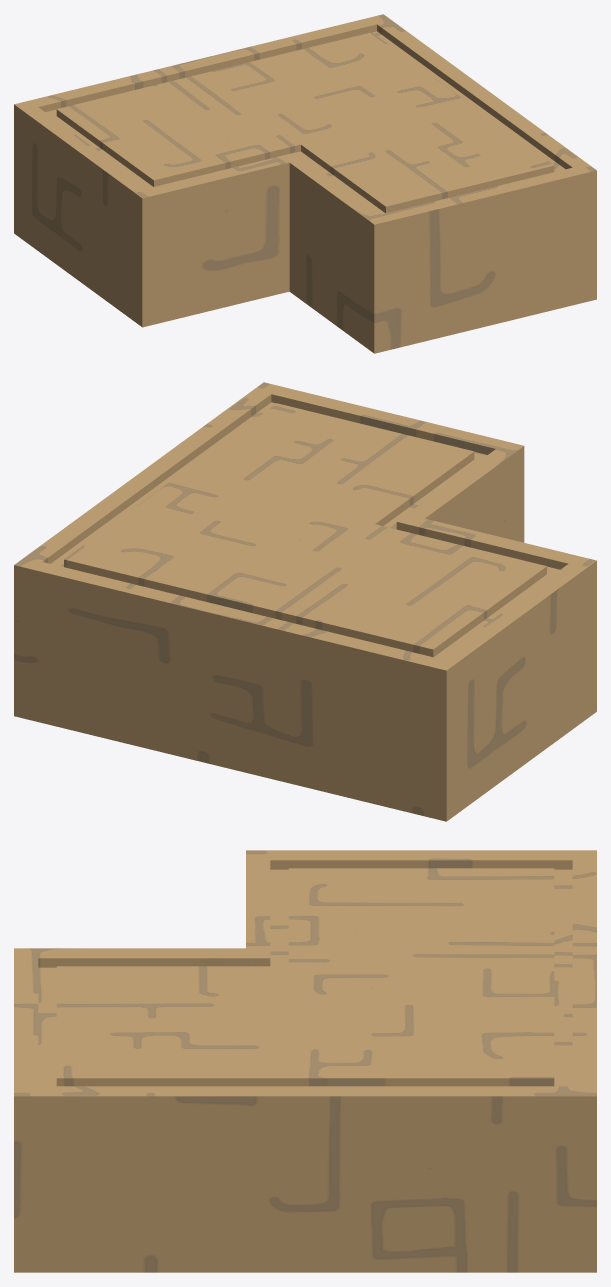
Rendered from Mesh_Platform_Corner_Small.glb.
3 renders of one model, top to bottom at view 1: azimuth 30°, elevation 25°; view 2: azimuth 150°, elevation 25°; view 3: azimuth 270°, elevation 25°, orthographic. The views are drawn at different scales.
Visible parts, largest first — view 1: Cube.033; view 2: Cube.033; view 3: Cube.033.
Part boxes in pixels (left/top/right/bottom): Cube.033: left=14, top=14, right=596, bottom=353; Cube.033: left=14, top=382, right=596, bottom=821; Cube.033: left=14, top=850, right=596, bottom=1272.
Size of the model in its own units: 20.97 by 7 by 20.98.
1 material, 1 textured.
